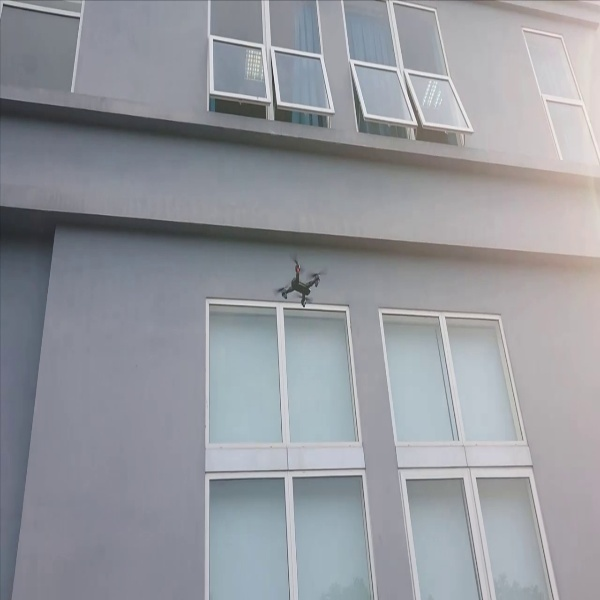drone: (269, 255, 324, 311)
